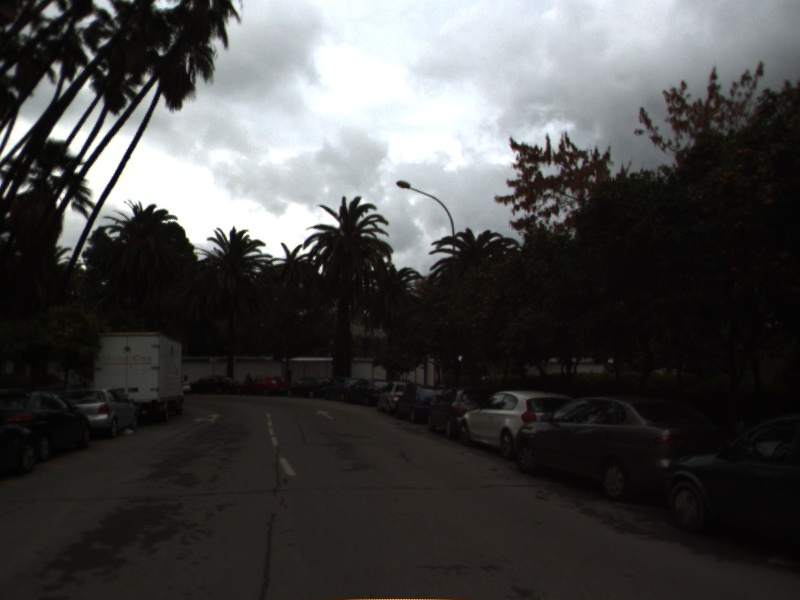STRAIGHT: (313, 407, 336, 422)
STRAIGHT_LEFT: (192, 411, 224, 425)
